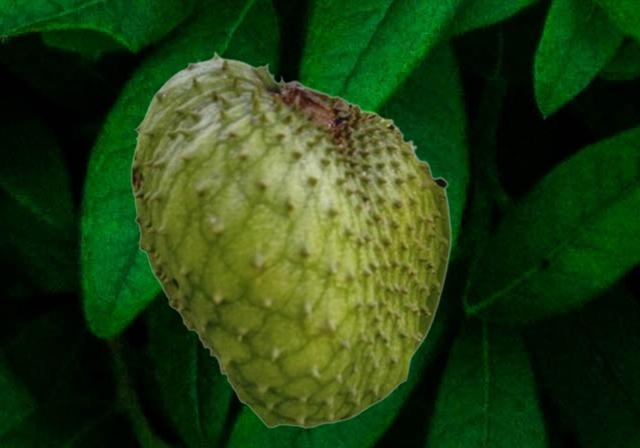guyabano: (130, 50, 451, 428)
